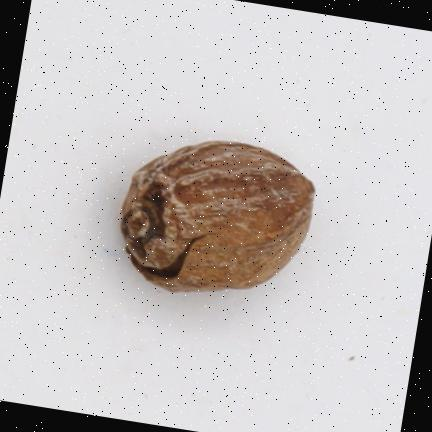full-black: (122, 141, 315, 291)
